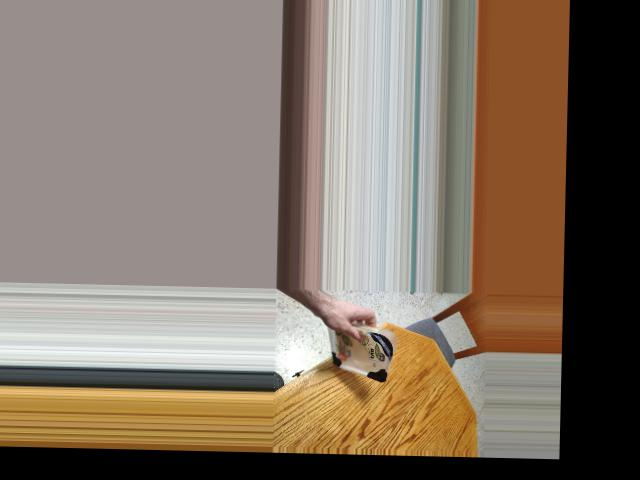cheese: (324, 324, 399, 376)
